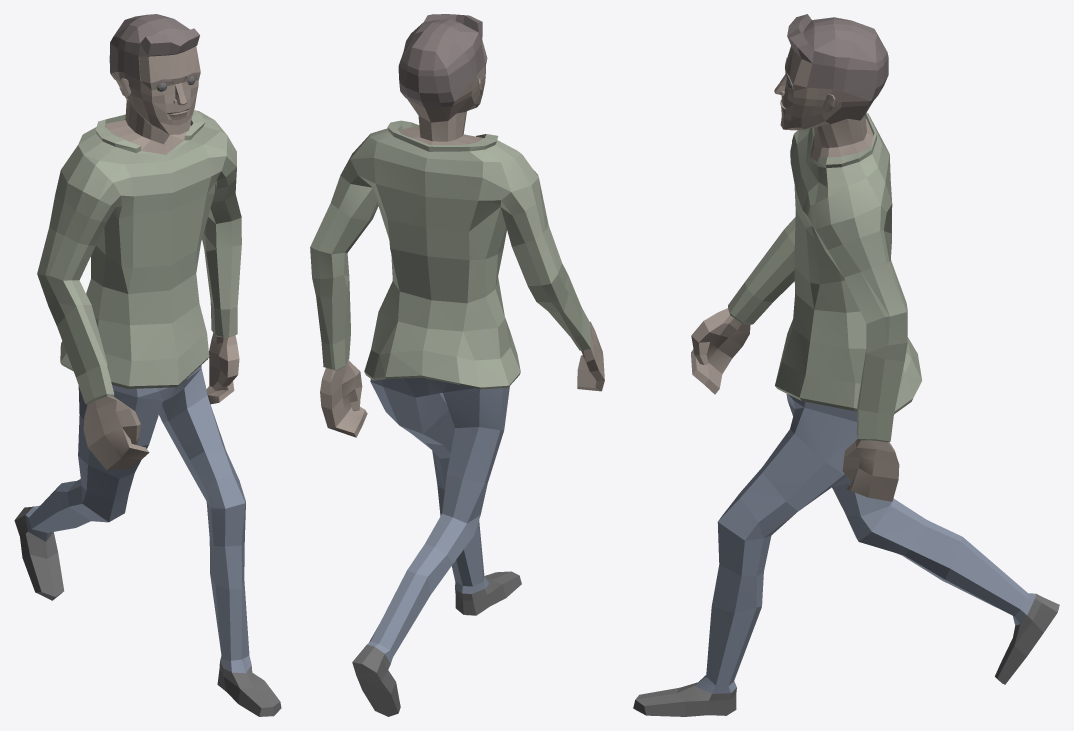
Rendered from walk_4.glb.
3 renders of one model, left to right at view 1: azimuth 30°, elevation 25°; view 2: azimuth 150°, elevation 25°; view 3: azimuth 270°, elevation 25°, orthographic. The views are drawn at different scales.
Visible parts, largest first — view 1: BaseHuman_baked; view 2: BaseHuman_baked; view 3: BaseHuman_baked.
Boxes of the visible parts, x1,y1,x2,y2 form: BaseHuman_baked: [14, 14, 281, 716]; BaseHuman_baked: [310, 14, 604, 716]; BaseHuman_baked: [633, 14, 1059, 716].
Bounding box in the file's own units: 1.64 × 4.56 × 2.62.
